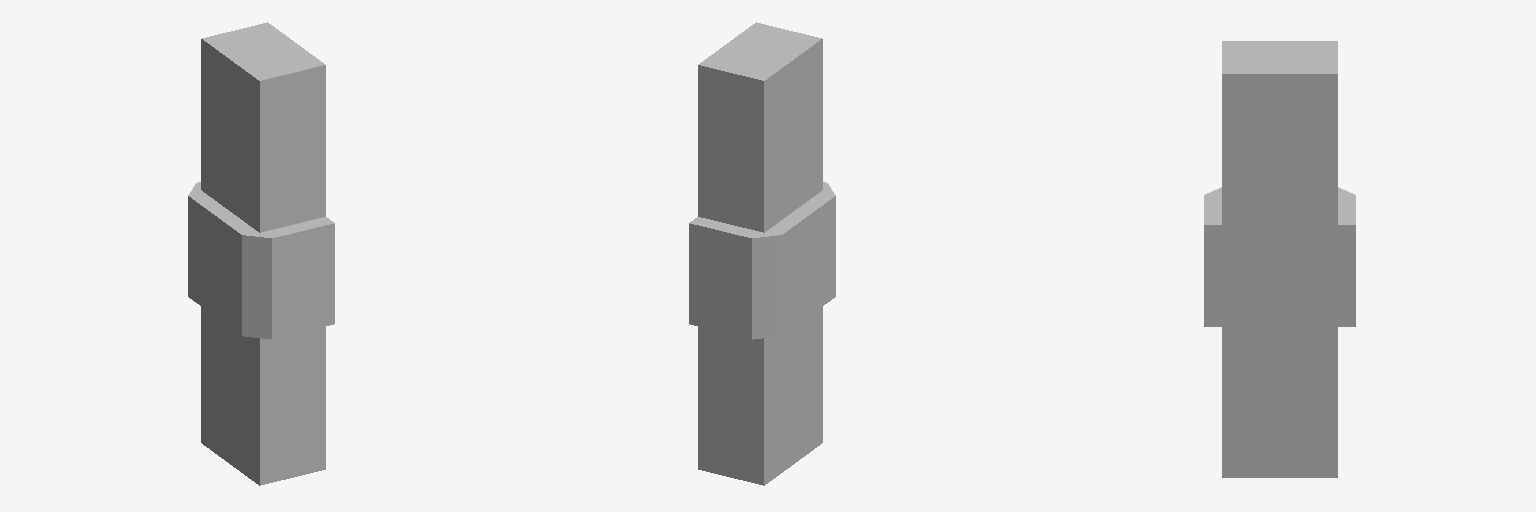
The model's file is chimney.obj.
3 renders of one model, left to right at view 1: azimuth 30°, elevation 25°; view 2: azimuth 150°, elevation 25°; view 3: azimuth 270°, elevation 25°, orthographic.
Visible parts, largest first — view 1: chimney; view 2: chimney; view 3: chimney.
Boxes of the visible parts, <box> form: chimney: <box>188,22,334,485</box>; chimney: <box>689,22,835,485</box>; chimney: <box>1204,41,1355,477</box>.
Size of the model in its own units: 0.2119 by 1 by 0.34.